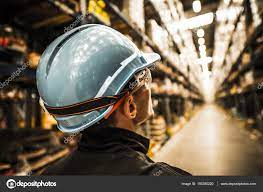Helmet: (30, 23, 149, 124)
